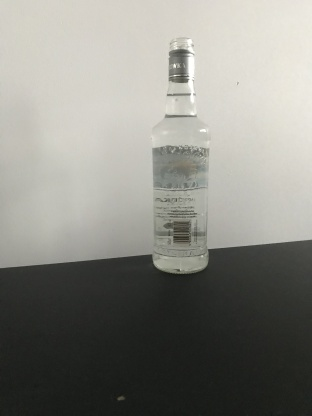nakretka: (167, 34, 196, 83)
